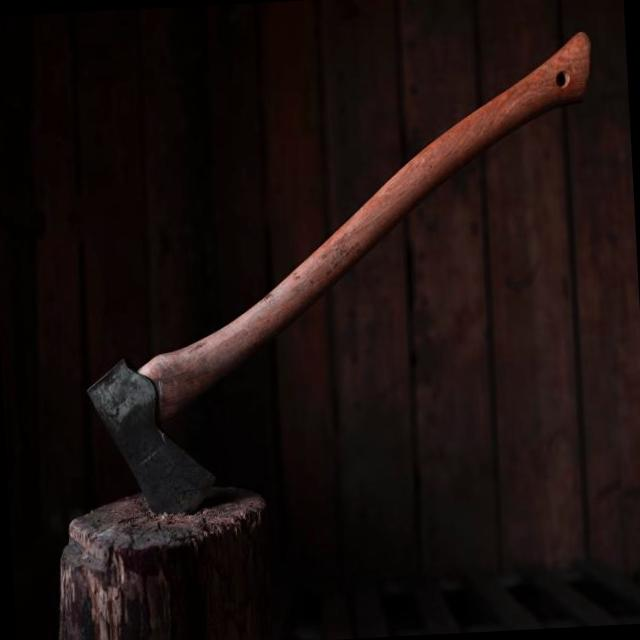Axe: (86, 32, 592, 515)
